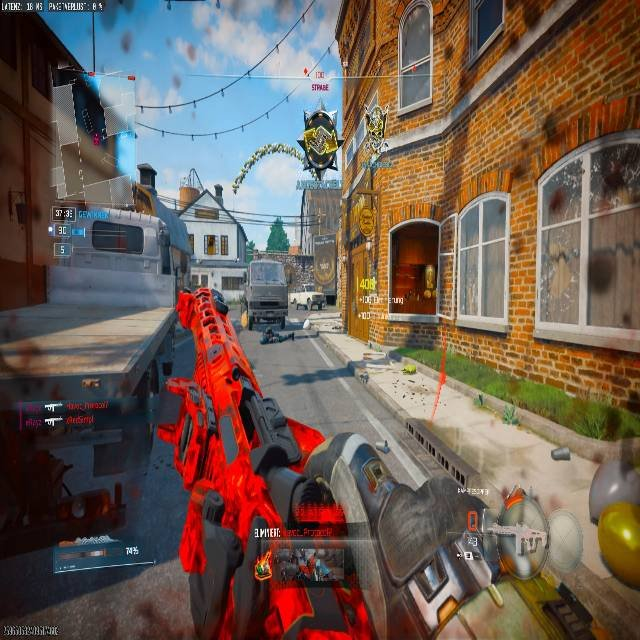head: (306, 108, 331, 128)
player: (298, 107, 342, 180)
